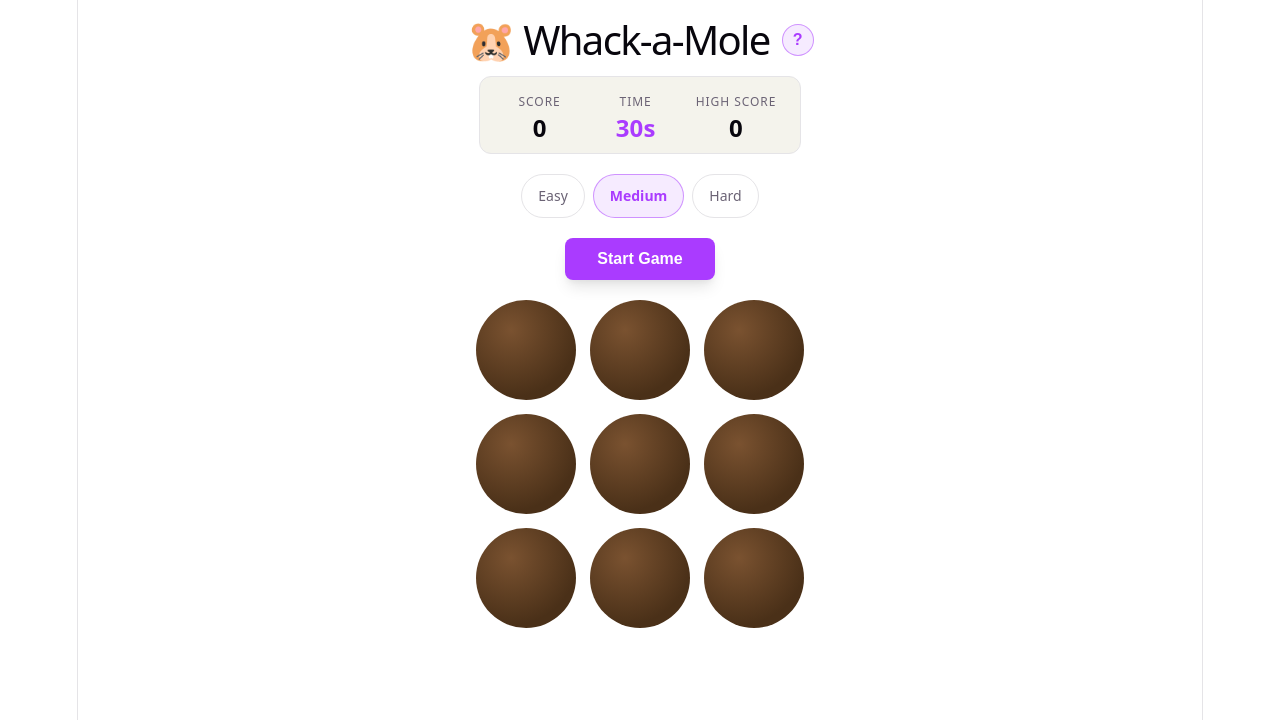
Scenario: App › opens and closes the how-to-play modal
The image size is (1280, 720).
Click the button named "How to play" at (798, 40), box 782,24 -> 814,56
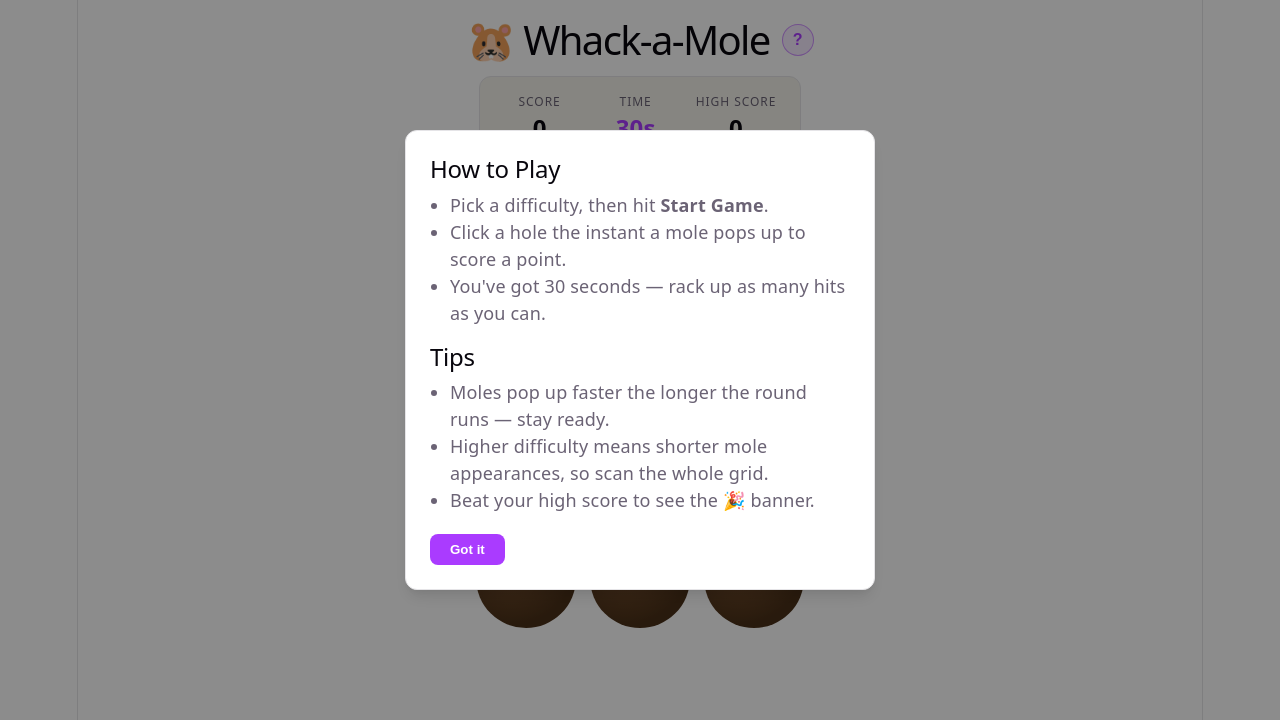
Expected: the heading "How to Play" is shown, 430,152 -> 560,185
Click the button "Got it" at (467, 549), box 430,534 -> 505,565
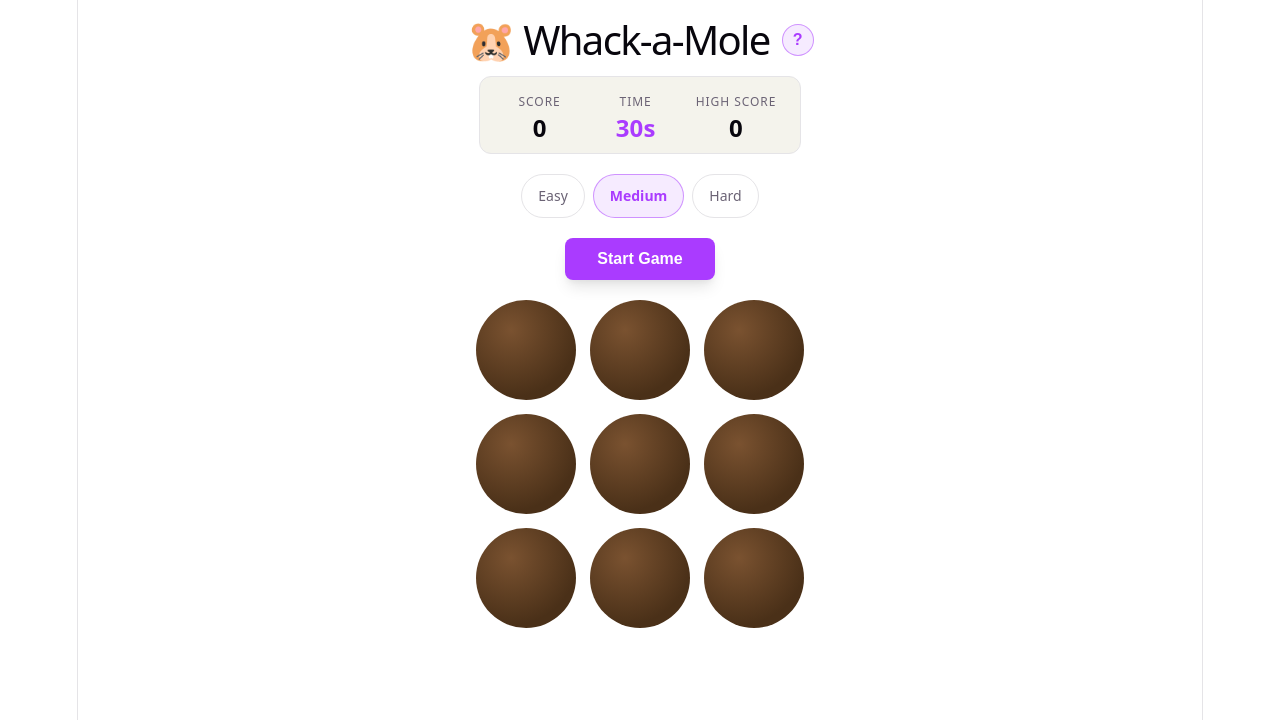
Expected: the heading "How to Play" is gone
